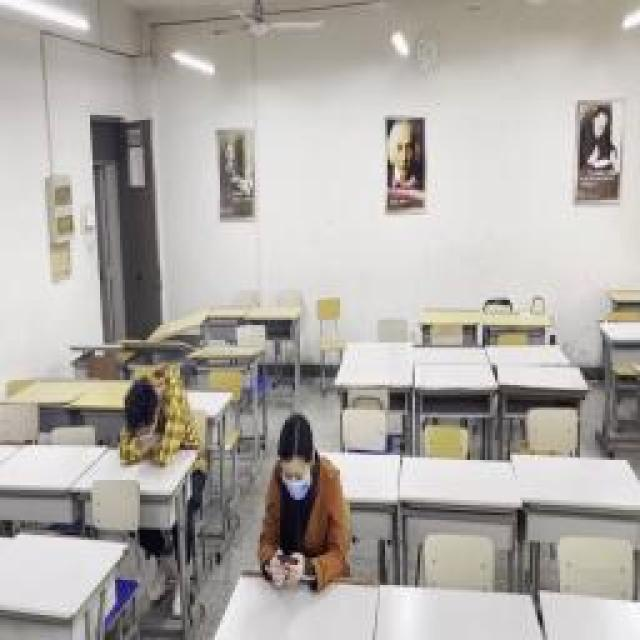phone: (260, 415, 345, 587)
sleep: (115, 360, 197, 462)
